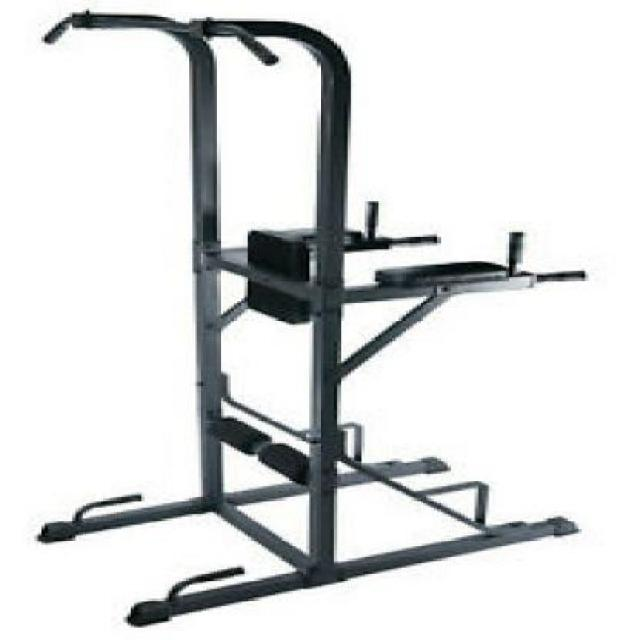chinning dipping: (43, 4, 586, 624)
